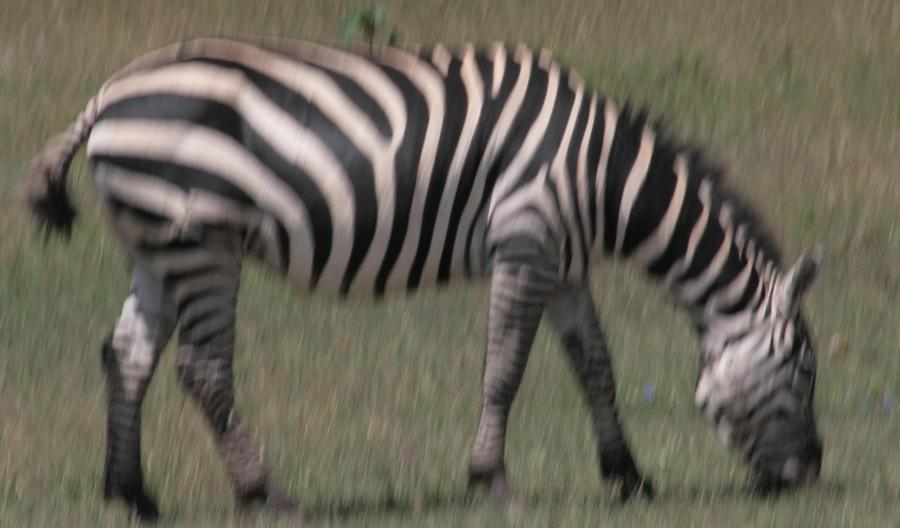zebra_plains: (121, 23, 589, 304)
